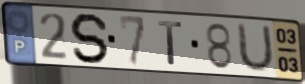2: (38, 11, 70, 60)
7: (117, 13, 148, 69)
8: (203, 21, 234, 71)
S: (68, 11, 112, 65)
T: (156, 18, 185, 67)
U: (236, 21, 275, 74)
